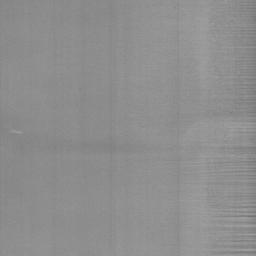Waist folding: (189, 143, 256, 188), (214, 75, 256, 123), (205, 205, 256, 231), (212, 242, 256, 256), (0, 128, 23, 135), (231, 16, 256, 21), (240, 45, 256, 49)
